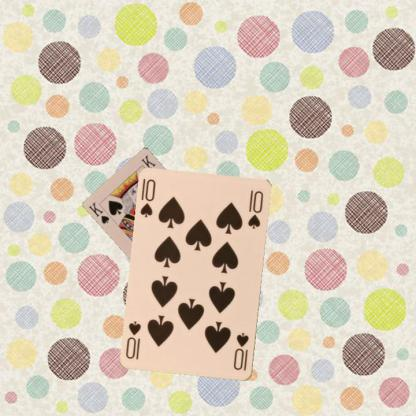10s: (231, 330, 250, 372), (138, 177, 157, 219)
Ks: (86, 200, 111, 226)
